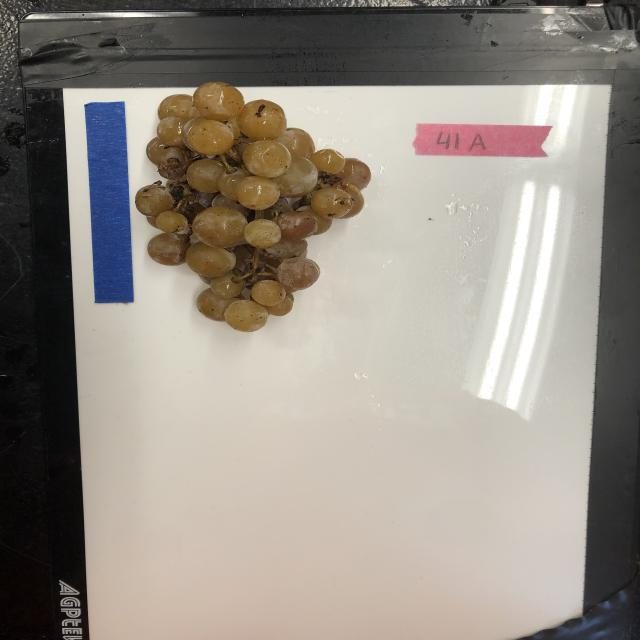grape_cluster: (137, 79, 375, 332)
index: (413, 120, 551, 159)
measure_label: (84, 99, 136, 305)
